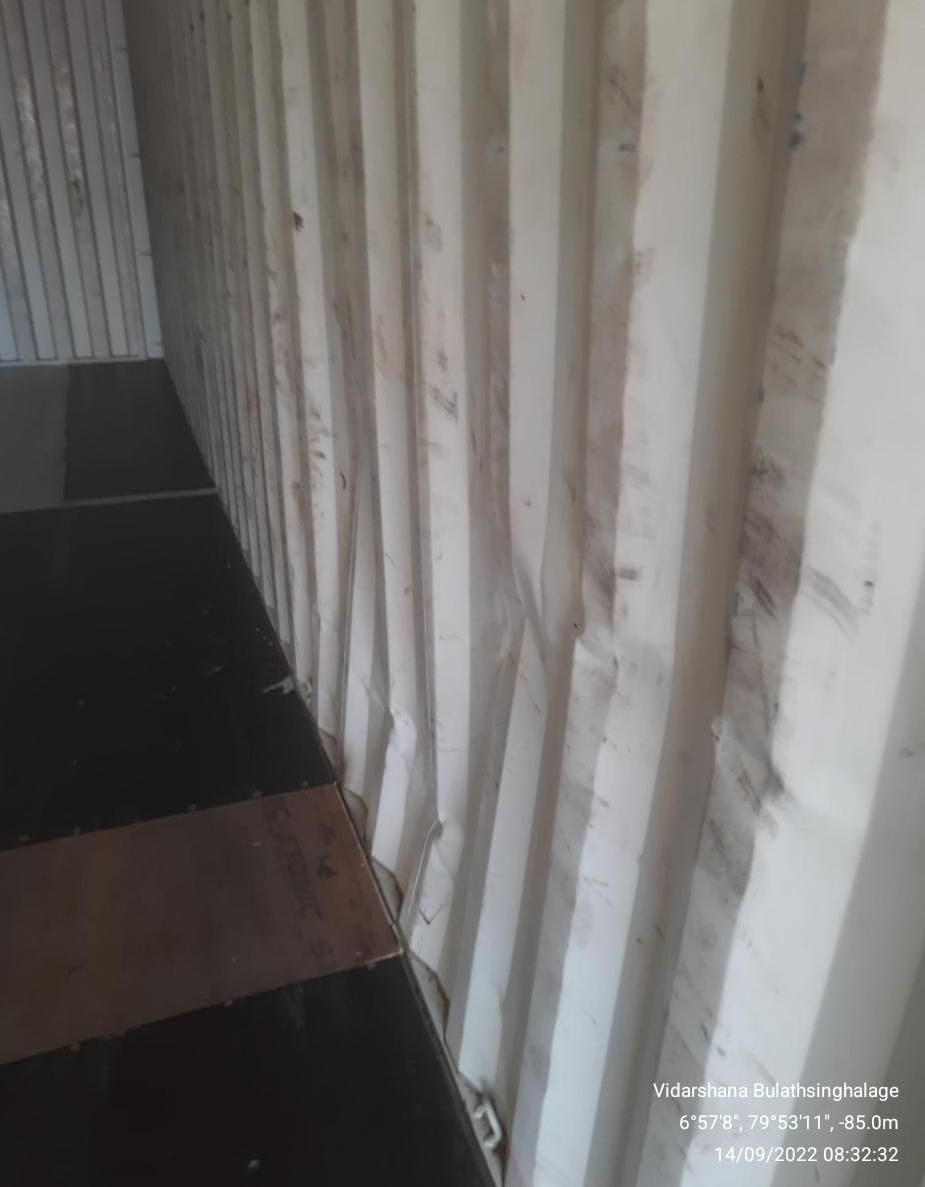dented: (344, 403, 743, 851)
